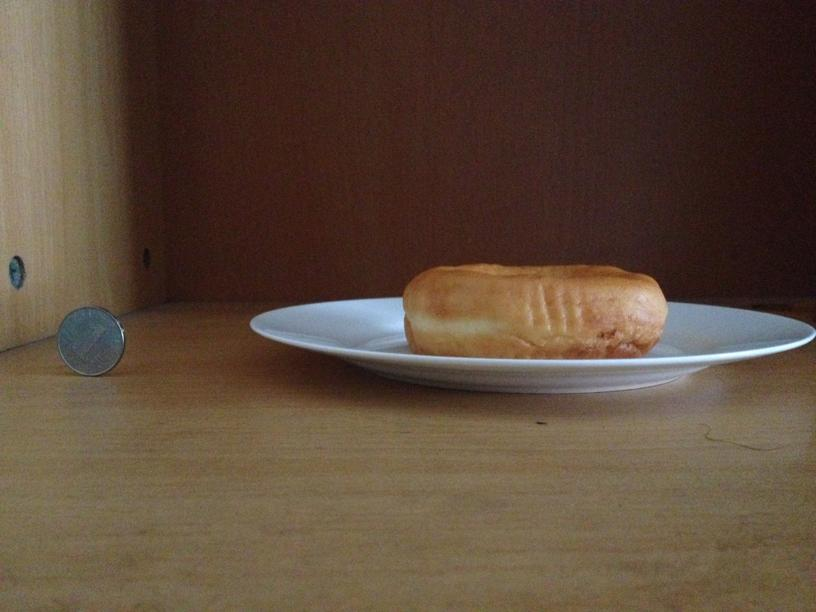coin: (57, 308, 124, 375)
doughnut: (404, 261, 666, 359)
